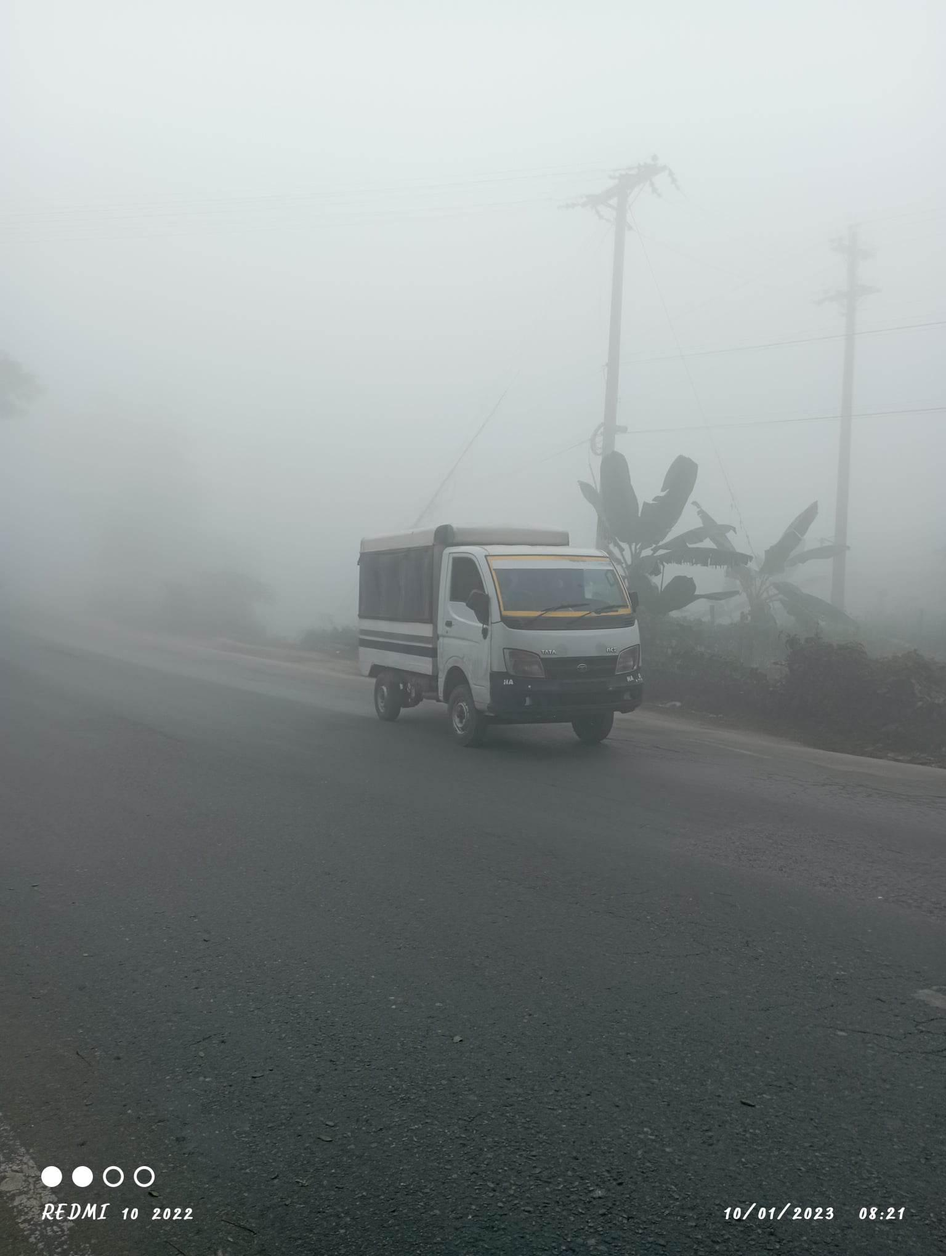Car: (306, 501, 679, 771)
